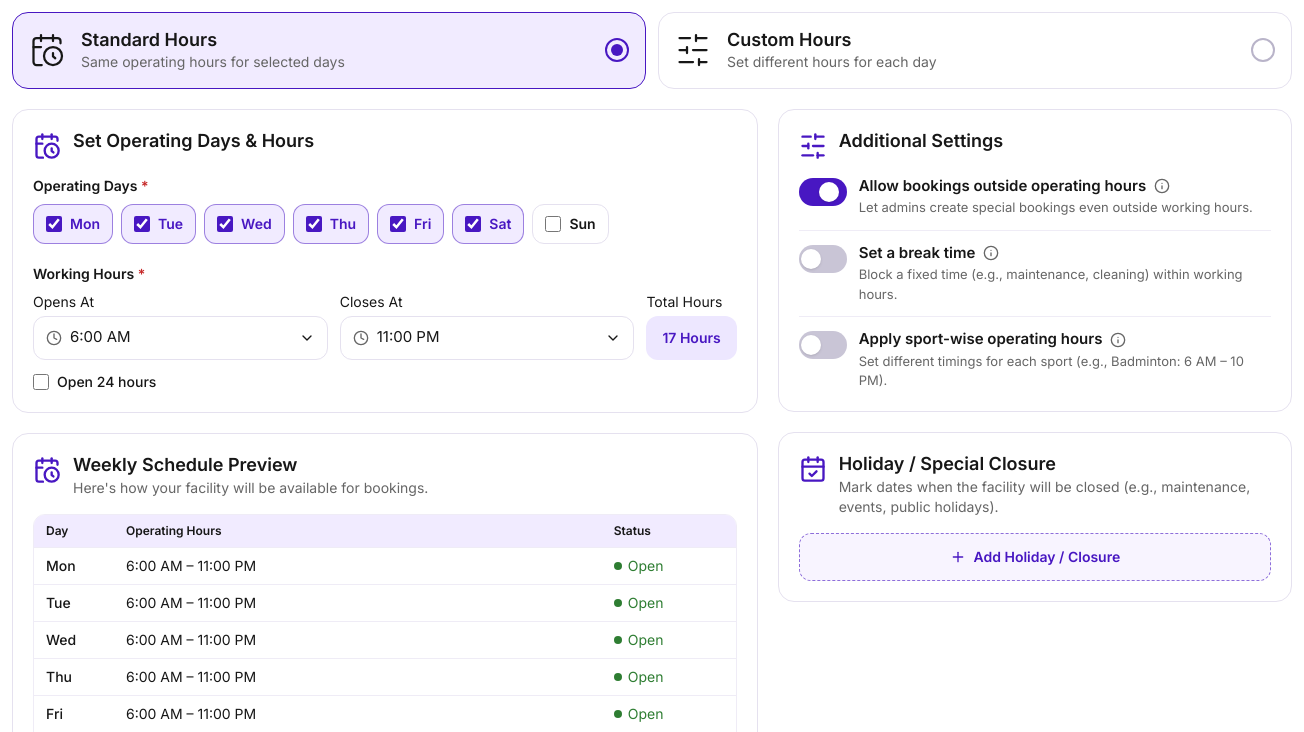
Test: OperatingHoursSetupForm › an overnight close counts past midnight and says so
Expected: the radio button labelled "Standard Hours Same operating hours for selected days" is shown, [12, 12, 646, 88]
Click the dropdown named "Closes at" at (408, 337), box [340, 316, 634, 360]
(page scrolled)
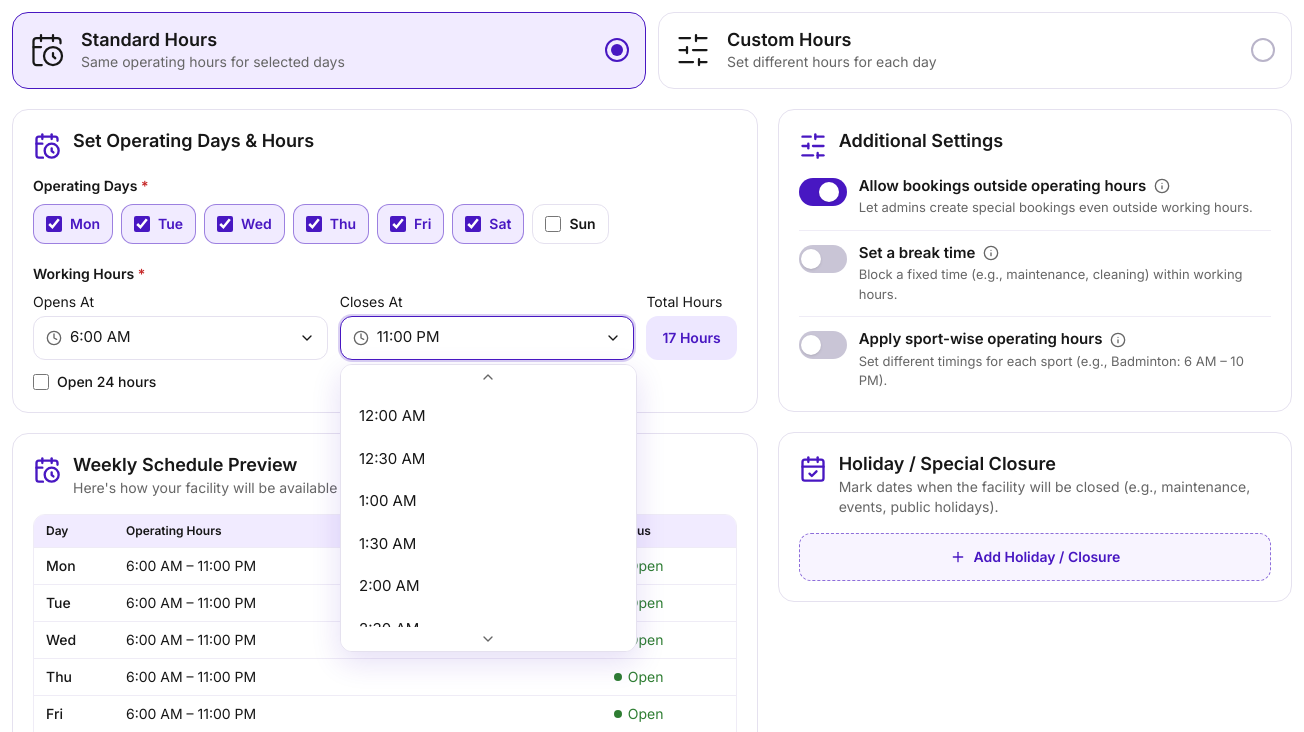
Click the option "12:00 AM" at (392, 416), box [359, 406, 426, 425]
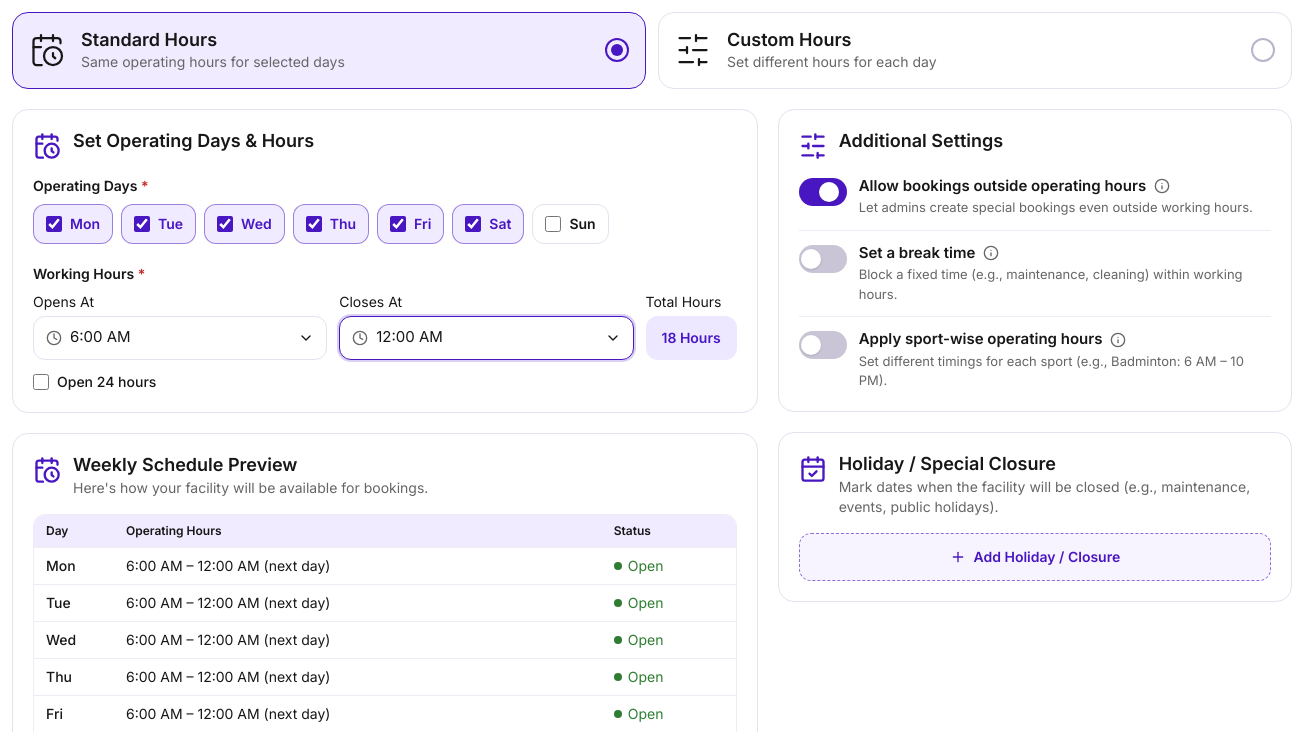
Now the text with test id "daily-total" reads "18 Hours", box [662, 328, 721, 346]
Now the 1st text "6:00 AM – 12:00 AM (next day)" is shown, box [126, 557, 330, 574]
